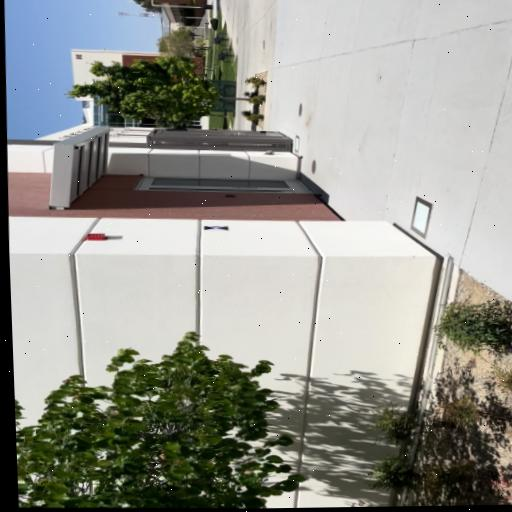target6: (204, 225, 230, 231)
